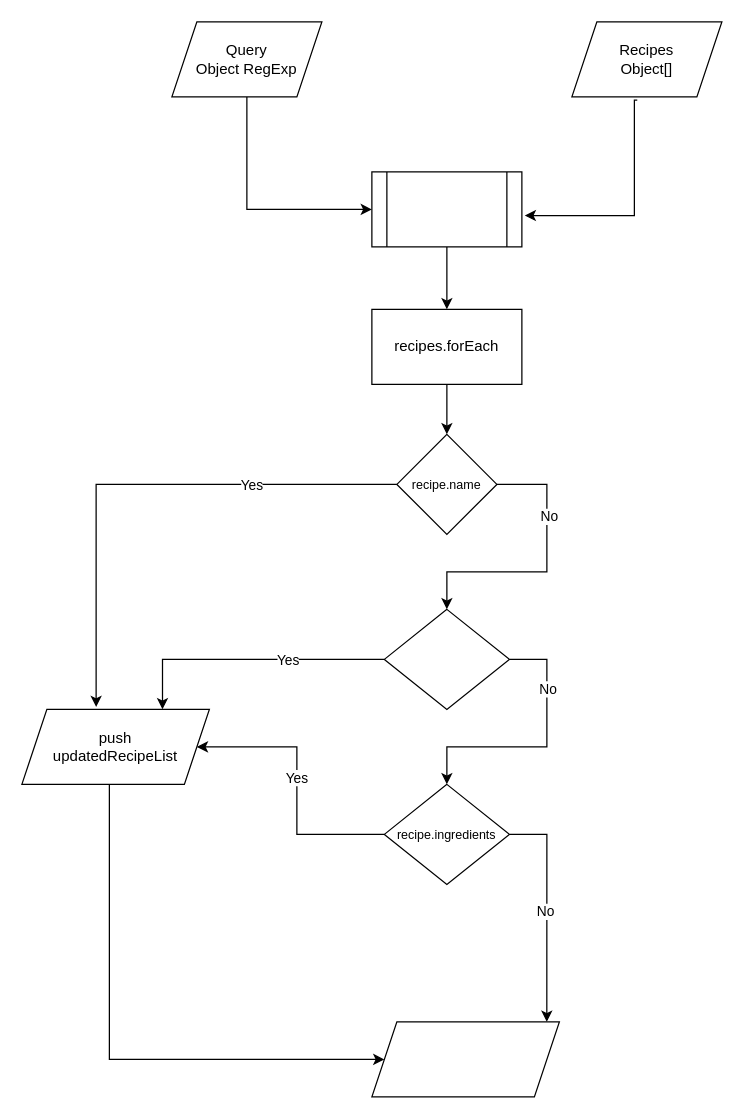
Some shapes in this 744 by 1119 pixel diagram are drawn without their labels. The shapes that lost their labels are listed below. From the top down, each one's centre as x and y in pixels, then its label:
the point at 446,209: searchRecipe
the point at 446,658: recipe.description
the point at 465,1059: Return updatedRecipeList
